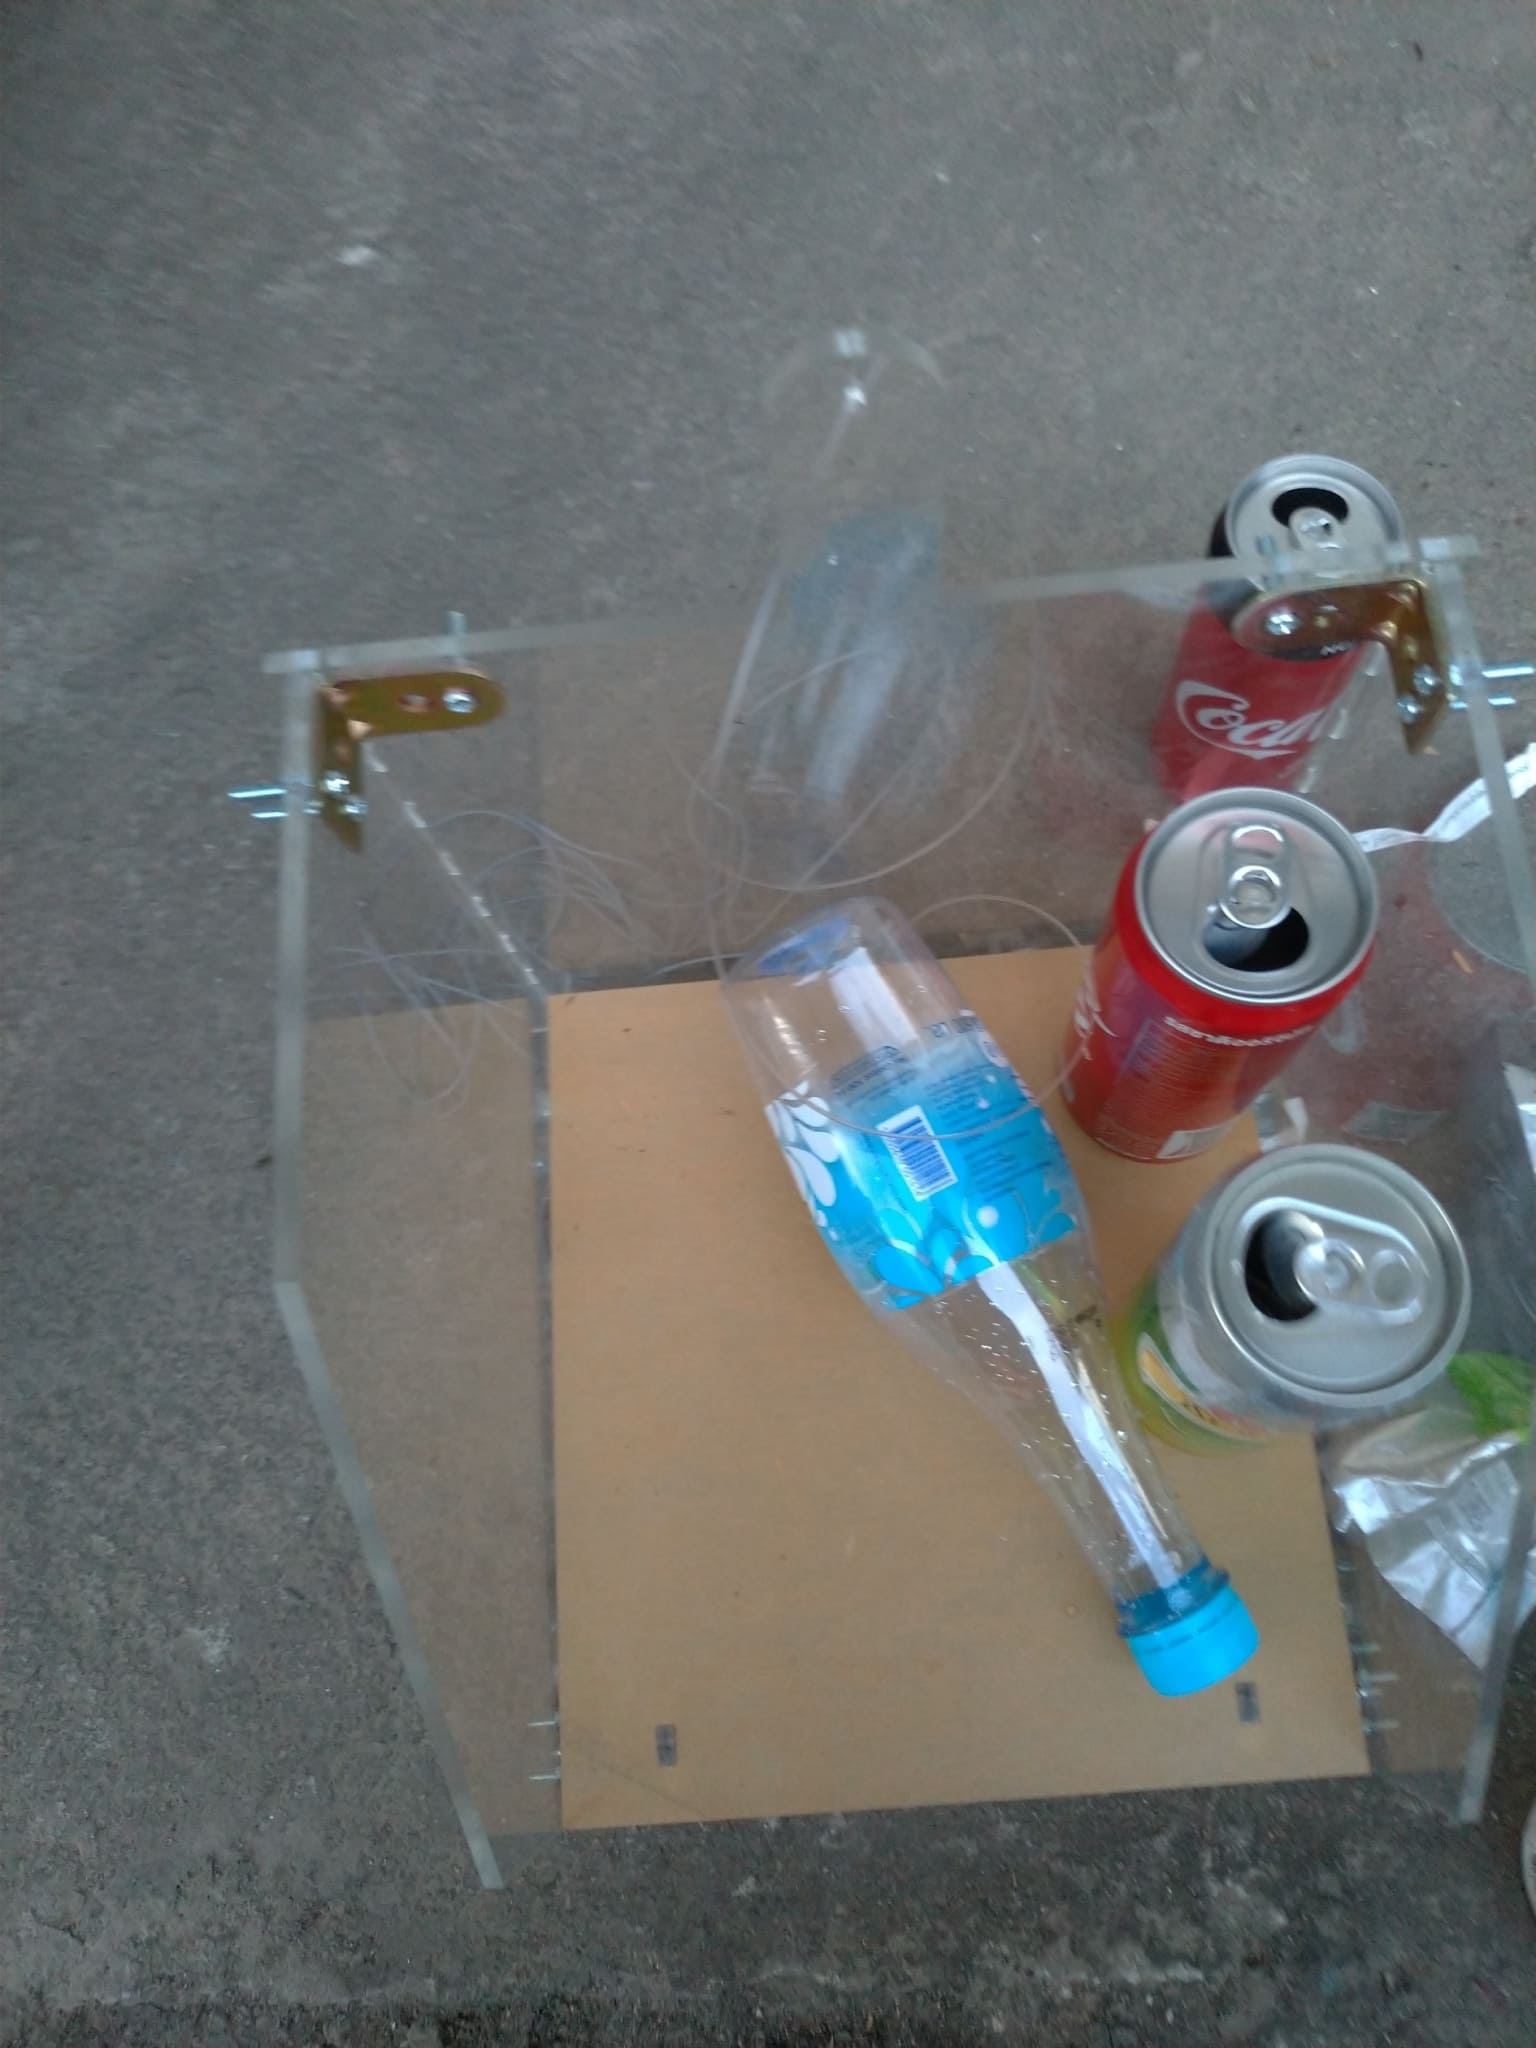AlCan: (1073, 780, 1386, 1161), (1125, 1145, 1467, 1455), (1144, 452, 1409, 805)
Others: (1325, 1351, 1536, 1651)
PlasticBottle: (721, 893, 1254, 1700)
